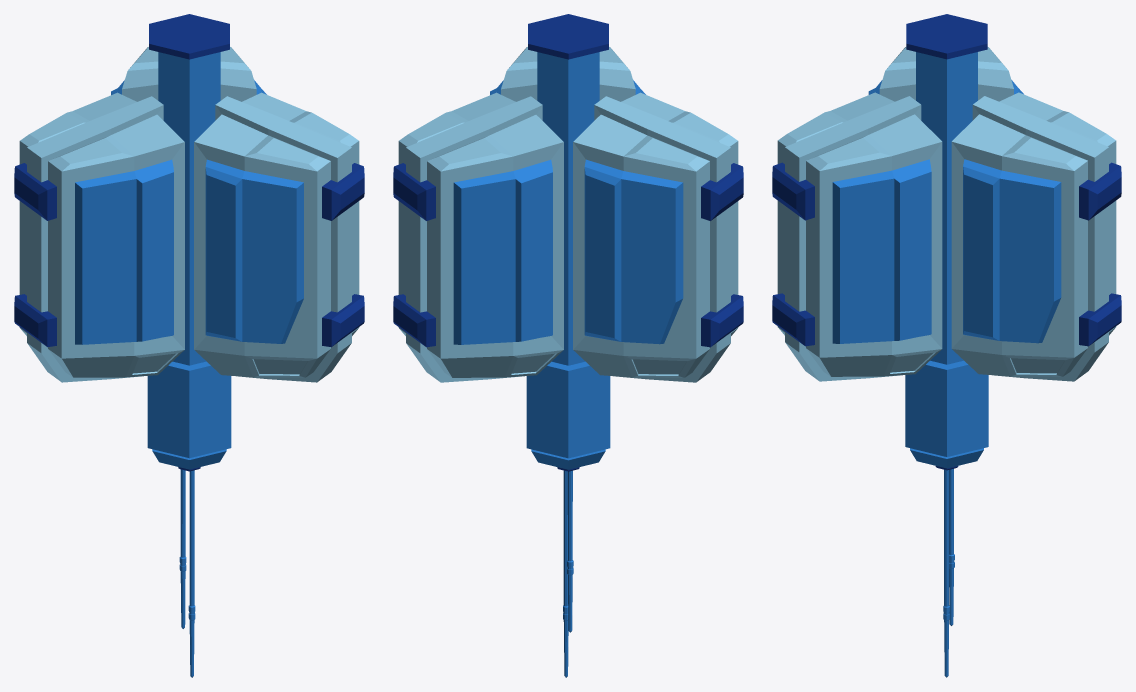
File: M_Bag_Station.fbx
3 renders of one model, left to right at view 1: azimuth 30°, elevation 25°; view 2: azimuth 150°, elevation 25°; view 3: azimuth 270°, elevation 25°, orthographic.
Visible parts, largest first — view 1: M_Bag_Station; view 2: M_Bag_Station; view 3: M_Bag_Station.
Part boxes in pixels (bbox=[...]): M_Bag_Station: bbox=[14, 14, 364, 677]; M_Bag_Station: bbox=[393, 14, 743, 677]; M_Bag_Station: bbox=[772, 14, 1121, 677].
Size of the model in its own units: 12921 by 29197 by 14388.
